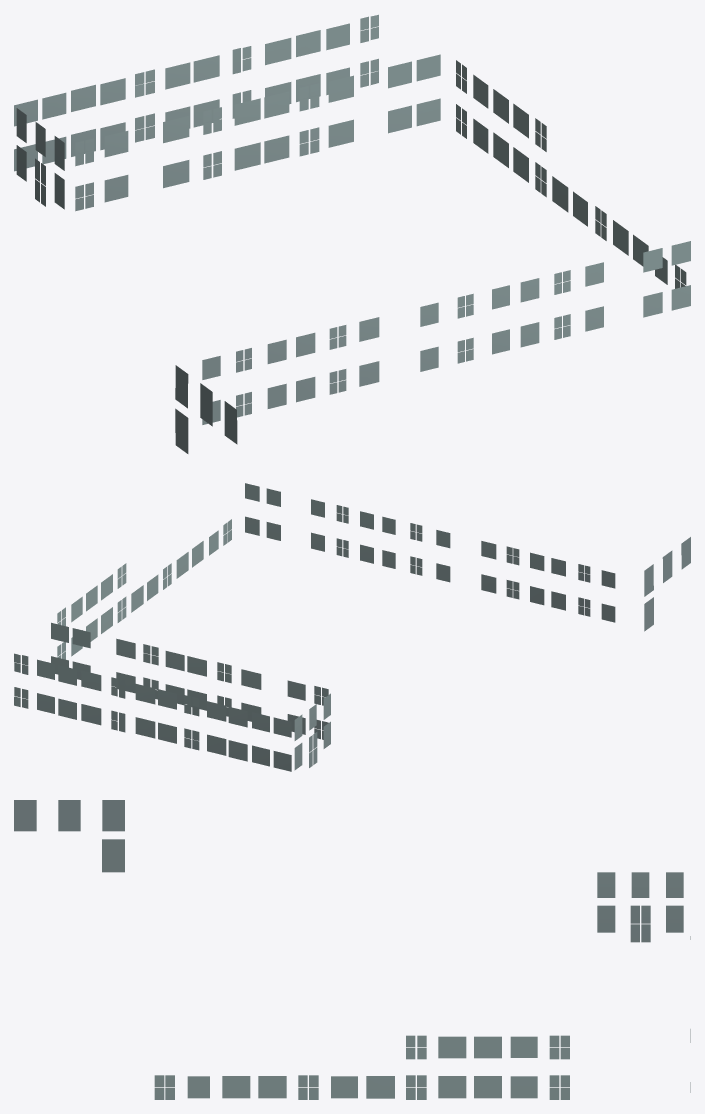
3 views of the same model, one above another, from view 1: azimuth 30°, elevation 25°; view 2: azimuth 150°, elevation 25°; view 3: azimuth 270°, elevation 25° (orthographic). The views are drawn at different scales.
Parts seen in each view (by area): view 1: Cube.176; view 2: Cube.176; view 3: Cube.176.
Part boxes in pixels (box(x1,y1,x2,y2)): Cube.176: box(14, 14, 690, 453); Cube.176: box(14, 483, 690, 771); Cube.176: box(14, 800, 690, 1099).
Size of the model in its own units: 10107 by 1542 by 12468.
